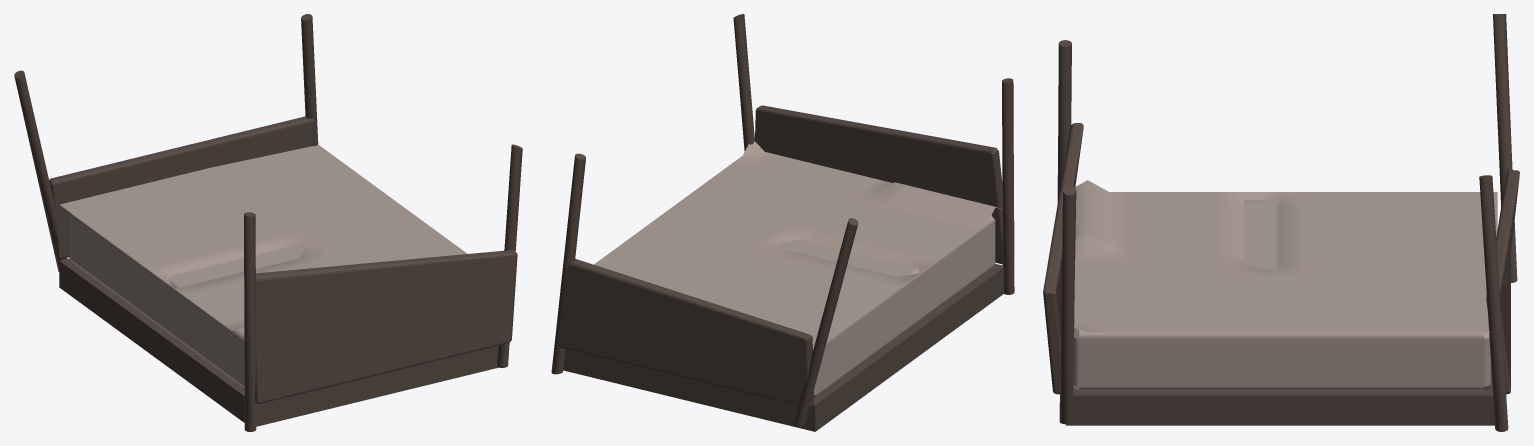
File: Creepy bed.fbx
The picture shows the model from 3 angles, left to right: view 1: azimuth 30°, elevation 25°; view 2: azimuth 150°, elevation 25°; view 3: azimuth 270°, elevation 25°; orthographic projection. The views are drawn at different scales.
Parts seen in each view (by area): view 1: sheet, headboard, bed_base, mattress, footboard, bedpost, bedpost2, bedpost1, bedpost3; view 2: sheet, footboard, headboard, bed_base, mattress, bedpost, bedpost2, bedpost3, bedpost1; view 3: sheet, mattress, bed_base, bedpost3, headboard, bedpost1, footboard, bedpost2, bedpost.
Boxes of the visible parts, x1,y1,x2,y2 form: sheet: [60, 144, 467, 331]; headboard: [255, 250, 517, 403]; bed_base: [59, 258, 498, 426]; mattress: [69, 213, 302, 387]; footboard: [49, 116, 314, 259]; bedpost: [244, 212, 256, 431]; bedpost2: [14, 70, 67, 271]; bedpost1: [497, 144, 522, 367]; bedpost3: [301, 14, 318, 146]; sheet: [594, 141, 1002, 349]; footboard: [557, 259, 814, 407]; headboard: [755, 105, 1002, 264]; bed_base: [563, 263, 1003, 431]; mattress: [777, 215, 995, 397]; bedpost: [1002, 78, 1014, 294]; bedpost2: [793, 218, 858, 426]; bedpost3: [551, 153, 585, 374]; bedpost1: [733, 14, 754, 151]; sheet: [1074, 180, 1497, 332]; mattress: [1073, 200, 1490, 390]; bed_base: [1066, 365, 1494, 425]; bedpost3: [1479, 175, 1508, 431]; headboard: [1043, 123, 1083, 394]; bedpost1: [1059, 185, 1076, 424]; footboard: [1486, 170, 1519, 394]; bedpost2: [1493, 14, 1517, 282]; bedpost: [1057, 40, 1071, 202].
Size of the model in its own units: 6.17 by 4.22 by 7.18.
